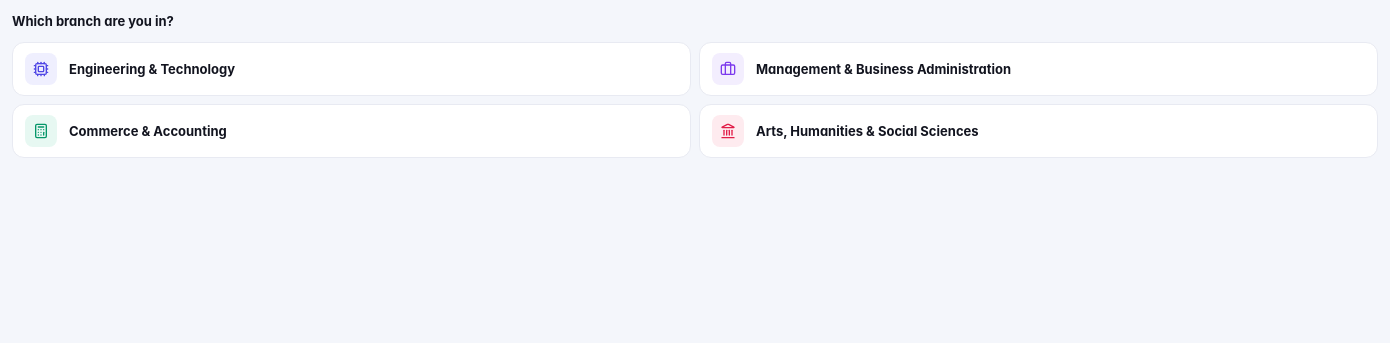
Test: choosing a branch across departments › asks an independent student for their department first, and only then shows that department's programmes
Click the radio button labelled "Commerce & Accounting".
click(41, 131)  # box [12,104,691,158]
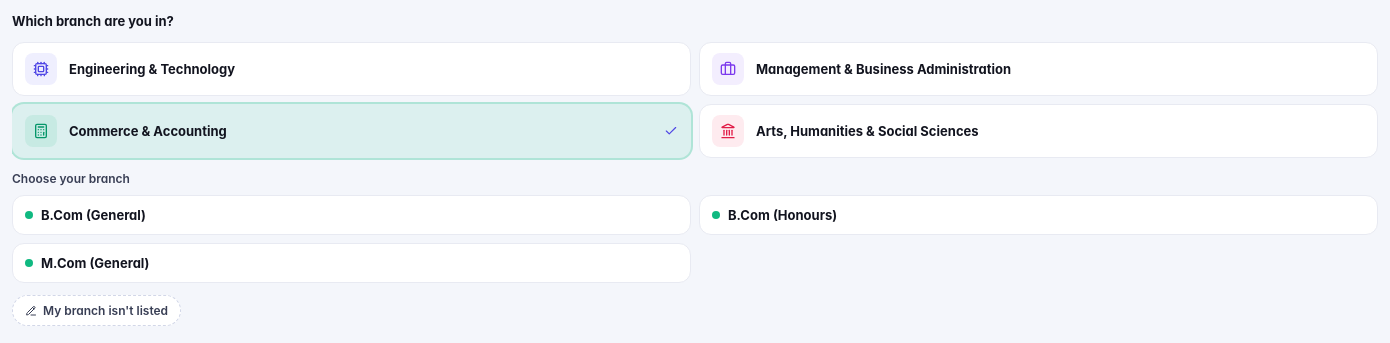
Check: the radio buttons read "B.Com (General)", "B.Com (Honours)", "M.Com (General)", in this order, box [12,195,691,235]; [699,195,1378,235]; [12,243,691,283]
